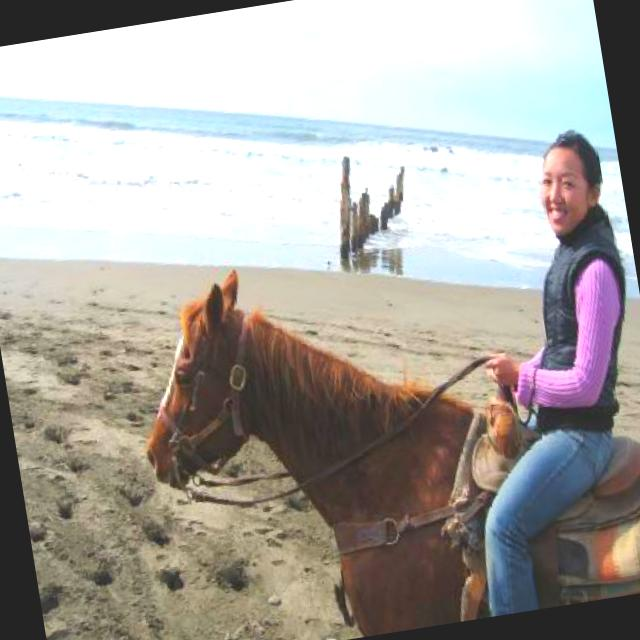Person: (418, 122, 640, 615)
